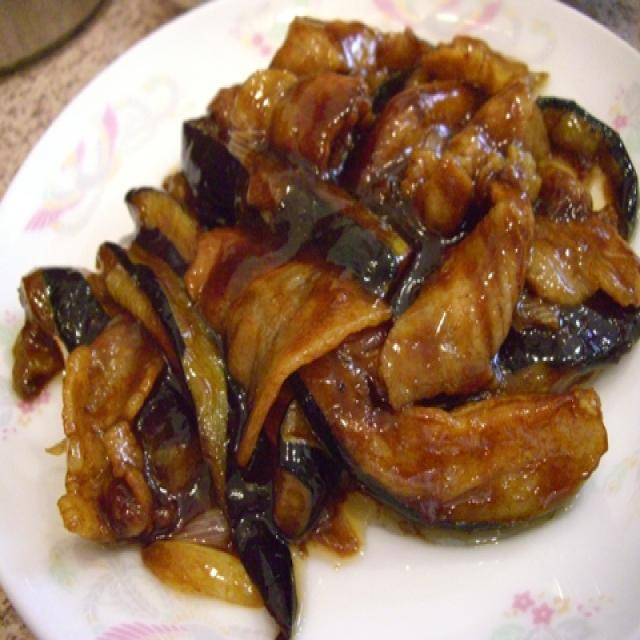鸡蛋料理: (24, 0, 640, 640)
